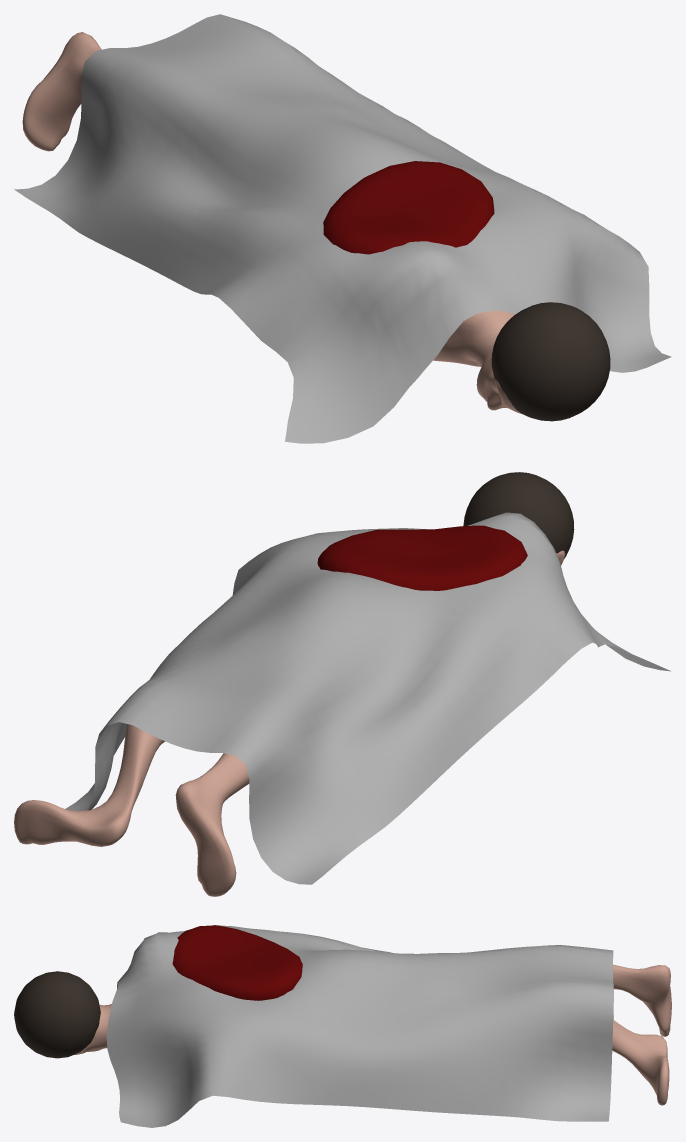
Rendered from UnorganizedDead.fbx.
The picture shows the model from 3 angles, top to bottom: view 1: azimuth 30°, elevation 25°; view 2: azimuth 150°, elevation 25°; view 3: azimuth 270°, elevation 25°; orthographic projection. The views are drawn at different scales.
Visible parts, largest first — view 1: DeadUnorganized1; view 2: DeadUnorganized1; view 3: DeadUnorganized1.
Part boxes in pixels (x1=…): DeadUnorganized1: x1=14, y1=14, x2=671, y2=443; DeadUnorganized1: x1=14, y1=472, x2=670, y2=896; DeadUnorganized1: x1=14, y1=925, x2=671, y2=1127.
Bounding box in the file's own units: 0.9804 × 0.3629 × 1.86.
